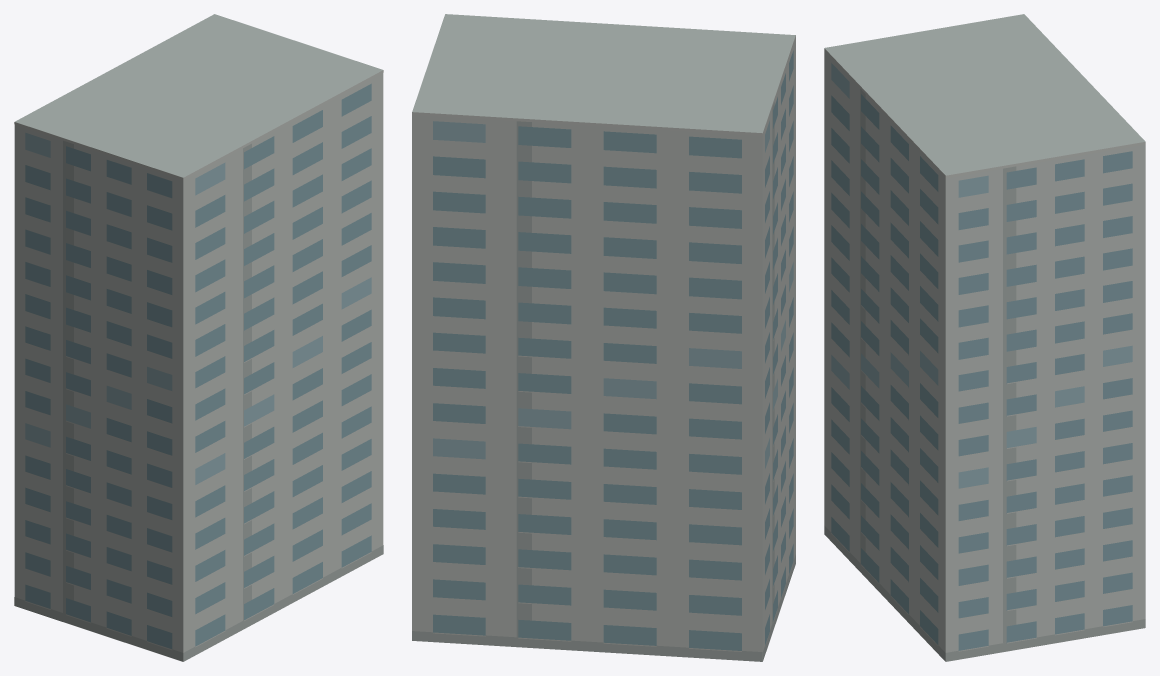
Rendered from residential-5c3b0f82-c8e7-4b99-8200-c1405da2ecc2.glb.
3 renders of one model, left to right at view 1: azimuth 30°, elevation 25°; view 2: azimuth 150°, elevation 25°; view 3: azimuth 270°, elevation 25°, orthographic. The views are drawn at different scales.
Visible parts, largest first — view 1: residential-5c3b0f82-c8e7-4b99-8200-c1405da2ecc2.tmp; view 2: residential-5c3b0f82-c8e7-4b99-8200-c1405da2ecc2.tmp; view 3: residential-5c3b0f82-c8e7-4b99-8200-c1405da2ecc2.tmp.
Boxes of the visible parts, x1,y1,x2,y2 form: residential-5c3b0f82-c8e7-4b99-8200-c1405da2ecc2.tmp: (14, 14, 383, 661); residential-5c3b0f82-c8e7-4b99-8200-c1405da2ecc2.tmp: (412, 14, 795, 661); residential-5c3b0f82-c8e7-4b99-8200-c1405da2ecc2.tmp: (824, 14, 1145, 661).
Size of the model in its own units: 32.1 by 45 by 26.97.
